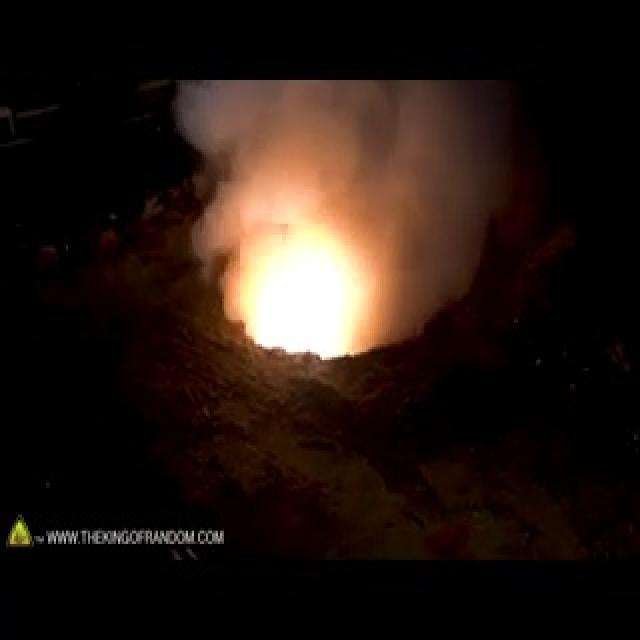fire: (219, 197, 375, 368)
